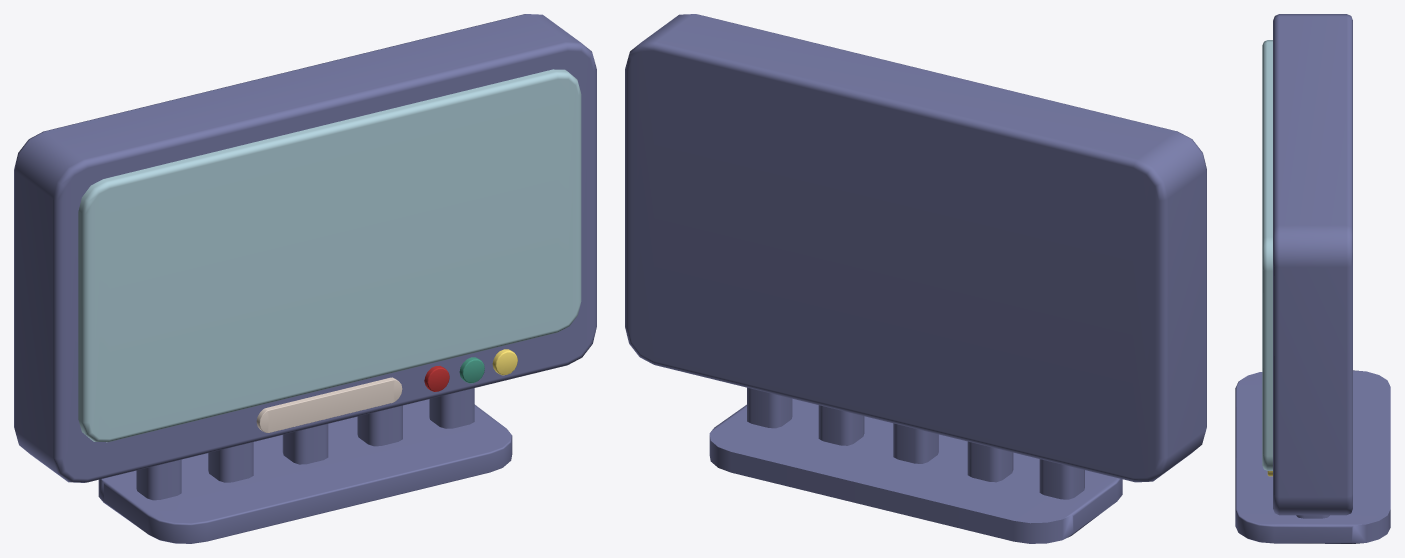
The picture shows the model from 3 angles, left to right: view 1: azimuth 30°, elevation 25°; view 2: azimuth 150°, elevation 25°; view 3: azimuth 270°, elevation 25°; orthographic projection. The views are drawn at different scales.
Parts seen in each view (by area): view 1: TV_1; view 2: TV_1; view 3: TV_1.
Part boxes in pixels (left/top/right/bottom): TV_1: left=14, top=14, right=596, bottom=543; TV_1: left=625, top=14, right=1206, bottom=543; TV_1: left=1235, top=14, right=1390, bottom=543.
Bounding box in the file's own units: 1.25 × 0.8583 × 0.3492.
1 material, 1 textured.
